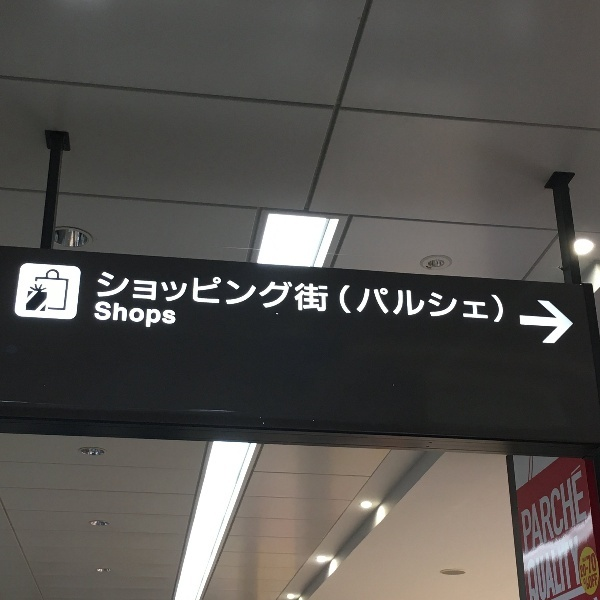text: (529, 465, 544, 556), (545, 465, 560, 556), (561, 465, 576, 556), (561, 533, 576, 600), (546, 533, 560, 600), (577, 465, 587, 556), (113, 270, 128, 323), (129, 270, 144, 323), (145, 270, 160, 323), (161, 270, 176, 323), (177, 270, 192, 323), (193, 270, 208, 323), (209, 270, 224, 323), (225, 270, 240, 323), (241, 270, 256, 323), (257, 270, 272, 323), (273, 270, 288, 323), (289, 270, 304, 323), (305, 270, 320, 323), (321, 270, 336, 323), (337, 270, 352, 323), (353, 270, 368, 323), (369, 270, 384, 323), (385, 270, 400, 323), (401, 270, 416, 323), (417, 270, 432, 323), (433, 270, 448, 323), (449, 270, 464, 323), (465, 270, 480, 323), (481, 270, 496, 323), (99, 270, 112, 323), (521, 465, 528, 556), (497, 270, 509, 323), (161, 300, 177, 332), (97, 300, 112, 332), (113, 300, 128, 332), (129, 300, 144, 332), (145, 300, 160, 332), (579, 551, 592, 579), (577, 533, 581, 600), (593, 551, 597, 579), (587, 572, 592, 590), (593, 572, 598, 590), (94, 300, 96, 332)
